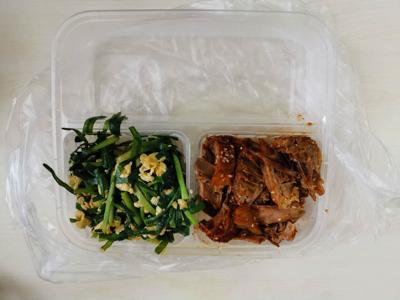jdjc: (67, 138, 187, 239)
